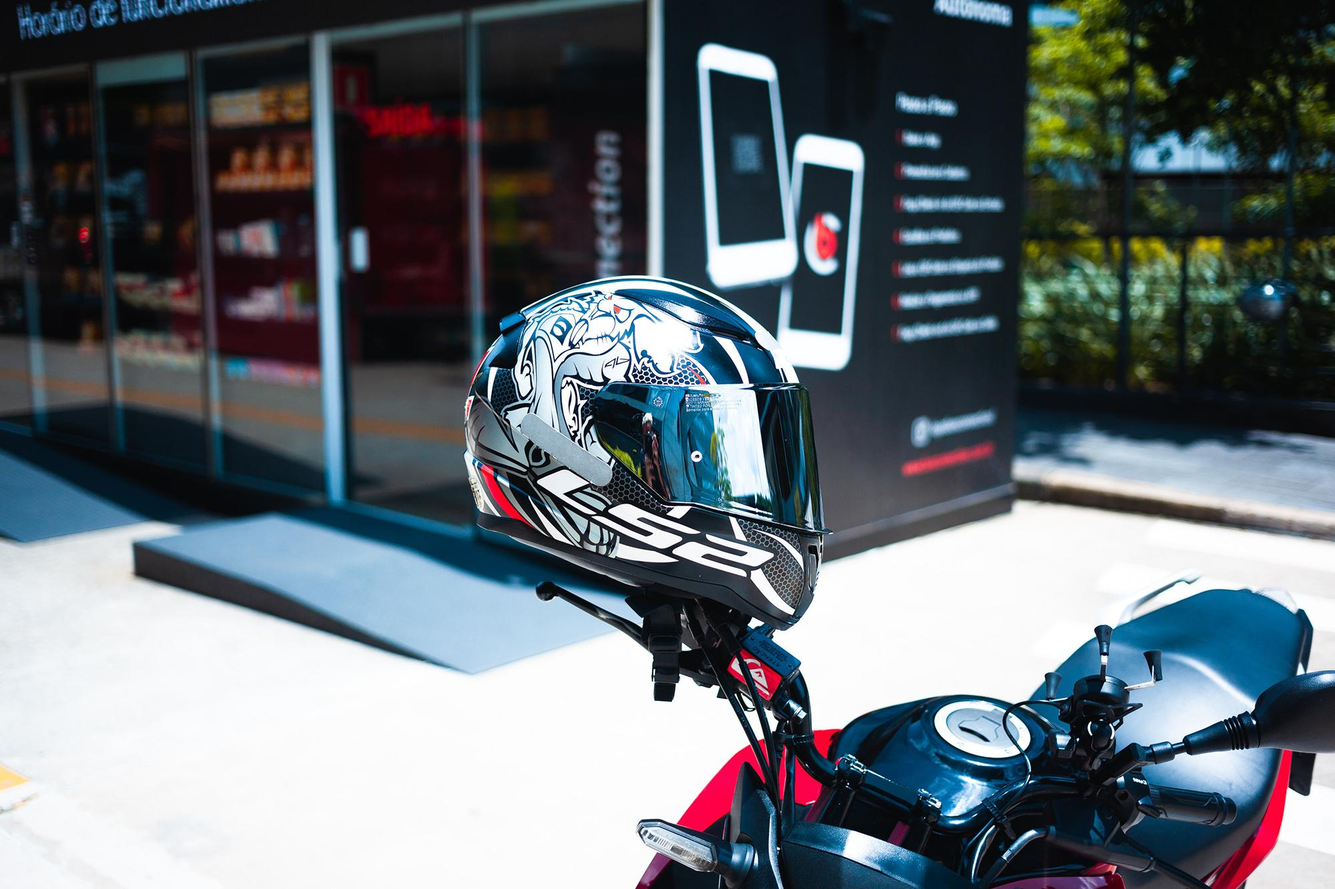helmet: (461, 273, 836, 633)
